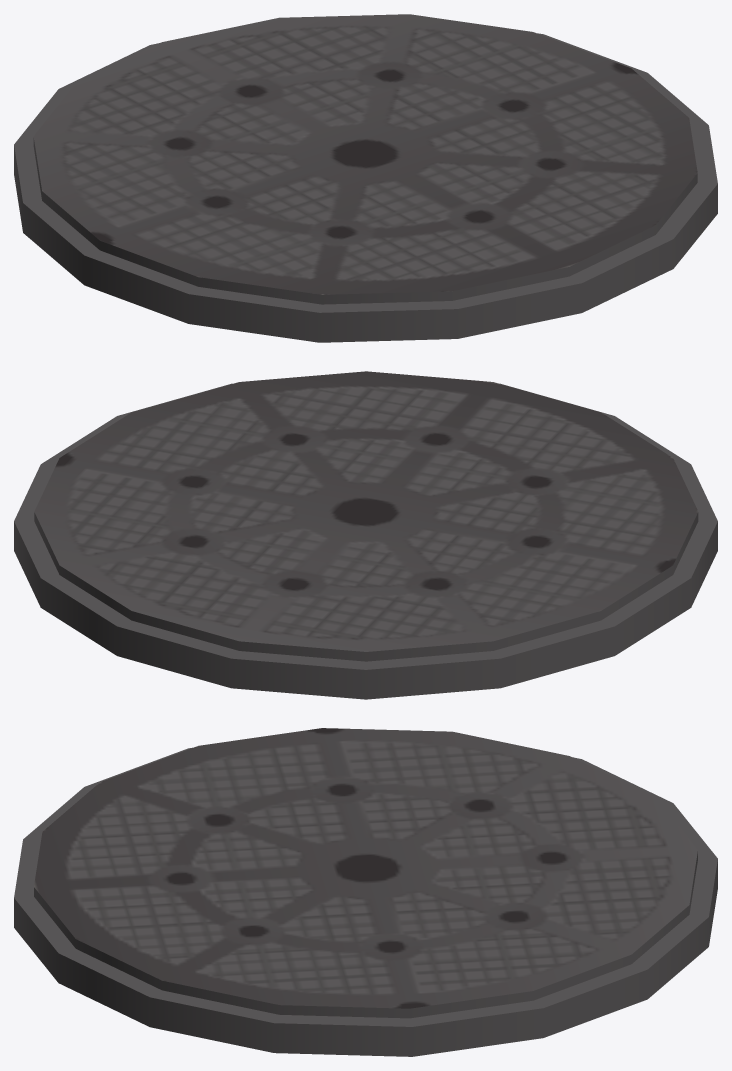
Rendered from obj_manhole_closed 1.fbx.
The picture shows the model from 3 angles, top to bottom: view 1: azimuth 30°, elevation 25°; view 2: azimuth 150°, elevation 25°; view 3: azimuth 270°, elevation 25°; orthographic projection.
Visible parts, largest first — view 1: obj_manhole_closed; view 2: obj_manhole_closed; view 3: obj_manhole_closed.
Boxes of the visible parts, left/top/right/bottom form: obj_manhole_closed: left=14, top=14, right=717, bottom=342; obj_manhole_closed: left=14, top=371, right=717, bottom=699; obj_manhole_closed: left=14, top=728, right=717, bottom=1056.
Bounding box in the file's own units: 4.29 × 0.2663 × 4.29.
1 material, 1 textured.
